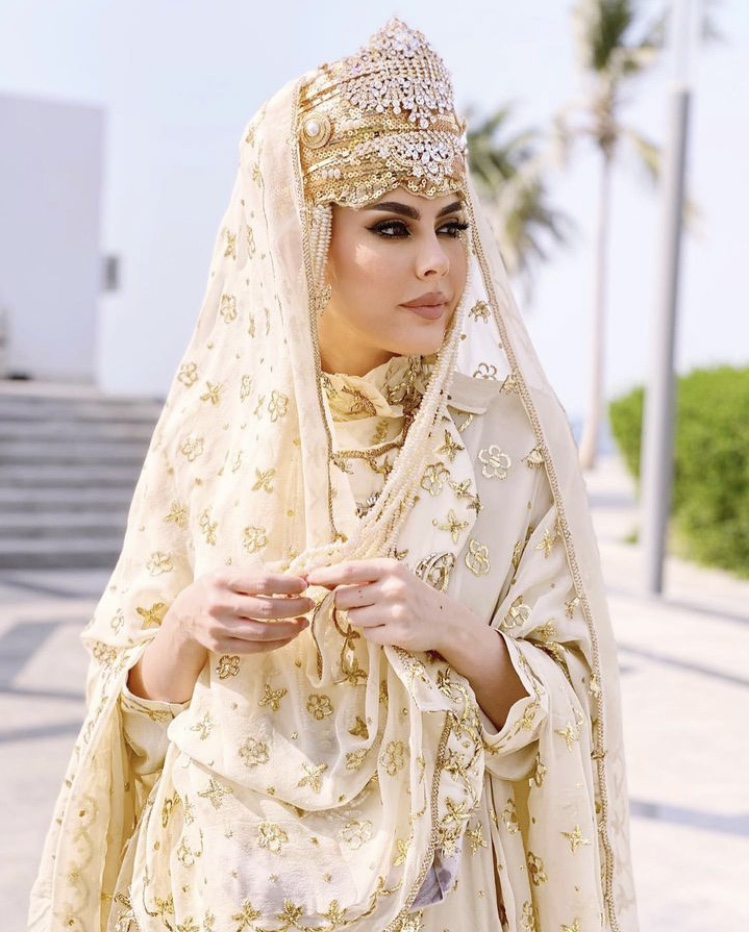Saudi_Founding_Day: (20, 12, 645, 932)
